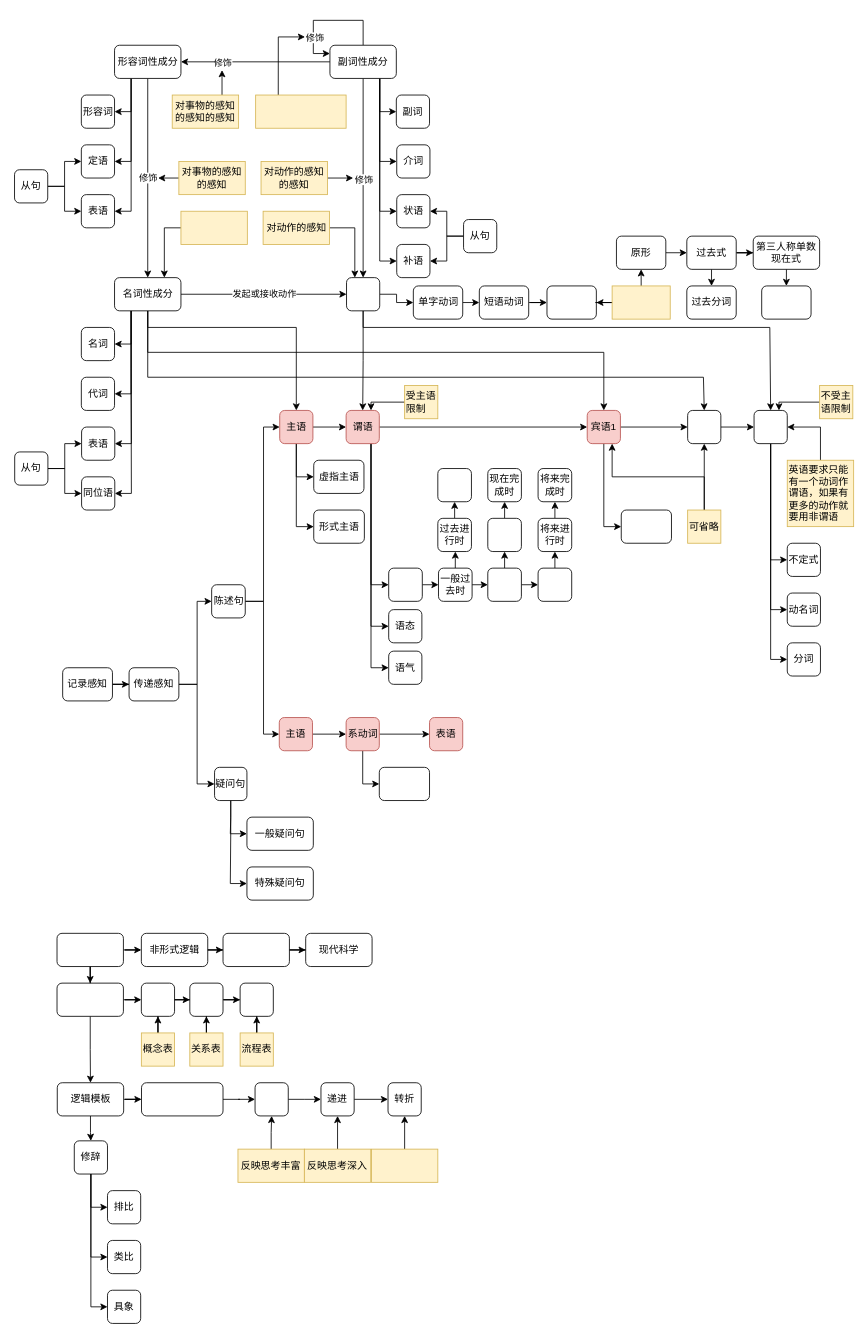
Image size: 868x1338. Some labels were removed from this diagram. Here are the shapes that lost their labels. From the top down, the centre of each, then its label:
At [300,111]: "对事物的感知的感知的感知的感知".
At [213,227]: "对事物的感知".
At [363,294]: "动词".
At [571,302]: "动词短语".
At [640,302]: "与时间相关的五种形态".
At [786,302]: "现在分词".
At [704,427]: "宾语2".
At [770,427]: "非谓语".
At [454,485]: "过去完成时".
At [504,535]: "现在进行时".
At [645,526]: "虚指宾语".
At [405,584]: "时态".
At [504,584]: "一般现在时".
At [554,584]: "一般将来时".
At [404,784]: "伪系动词".
At [89,950]: "形式逻辑".
At [255,950]: "认知偏差".
At [89,999]: "写作格式".
At [158,999]: "what".
At [206,999]: "why".
At [256,999]: "how".
At [182,1099]: "2个元素间的关系".
At [271,1099]: "并列".
At [404,1165]: "反映思考全面".
